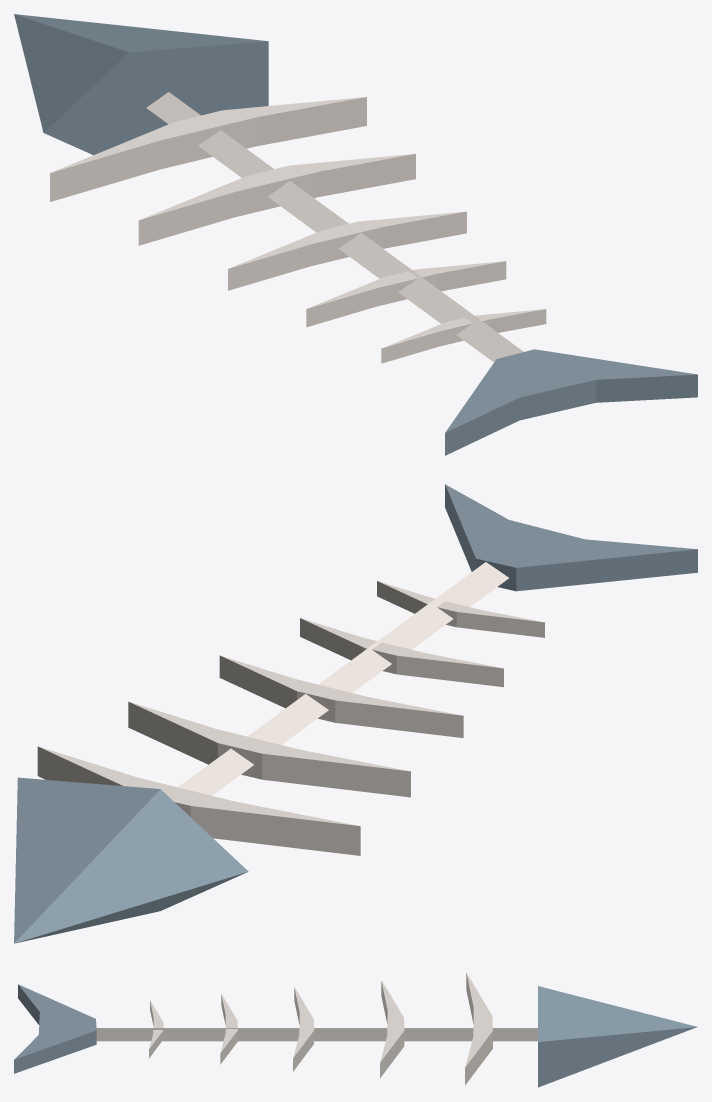
The model's file is Fish_2.fbx.
The picture shows the model from 3 angles, top to bottom: view 1: azimuth 30°, elevation 25°; view 2: azimuth 150°, elevation 25°; view 3: azimuth 270°, elevation 25°; orthographic projection. The views are drawn at different scales.
Parts seen in each view (by area): view 1: Fish_2; view 2: Fish_2; view 3: Fish_2.
Boxes of the visible parts, bbox=[...] form: Fish_2: bbox=[14, 14, 697, 455]; Fish_2: bbox=[14, 484, 697, 943]; Fish_2: bbox=[14, 973, 697, 1087].
Bounding box in the file's own units: 13.99 × 5.03 × 42.34.
Materials: 1 (1 with a texture image).
